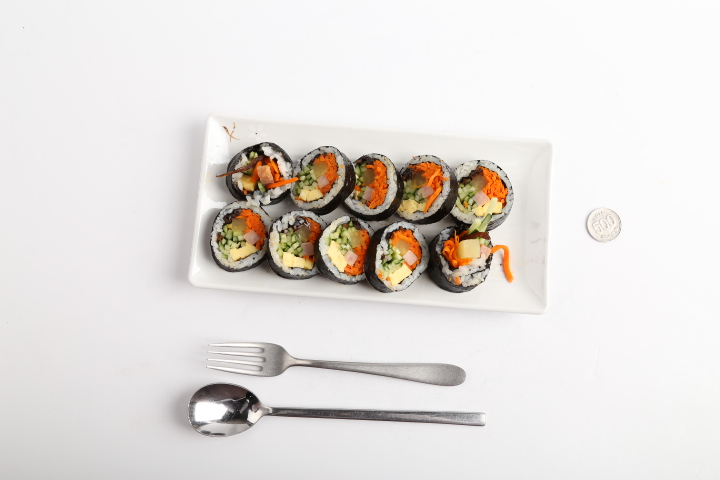dish: (189, 115, 551, 316)
ref_coin: (587, 208, 622, 241)
ref_fork: (206, 342, 295, 377)
ref_spoon: (187, 383, 270, 438)
김밥: (209, 140, 515, 293)
